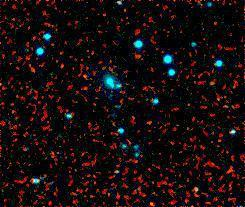star: (129, 188, 159, 207)
